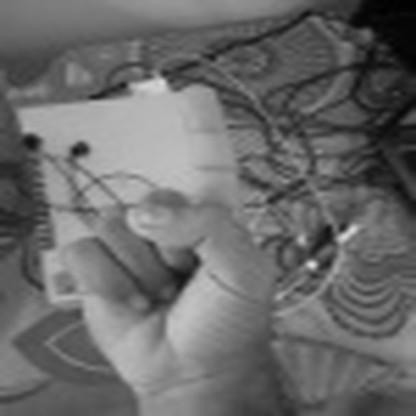d: (65, 60, 293, 416)
